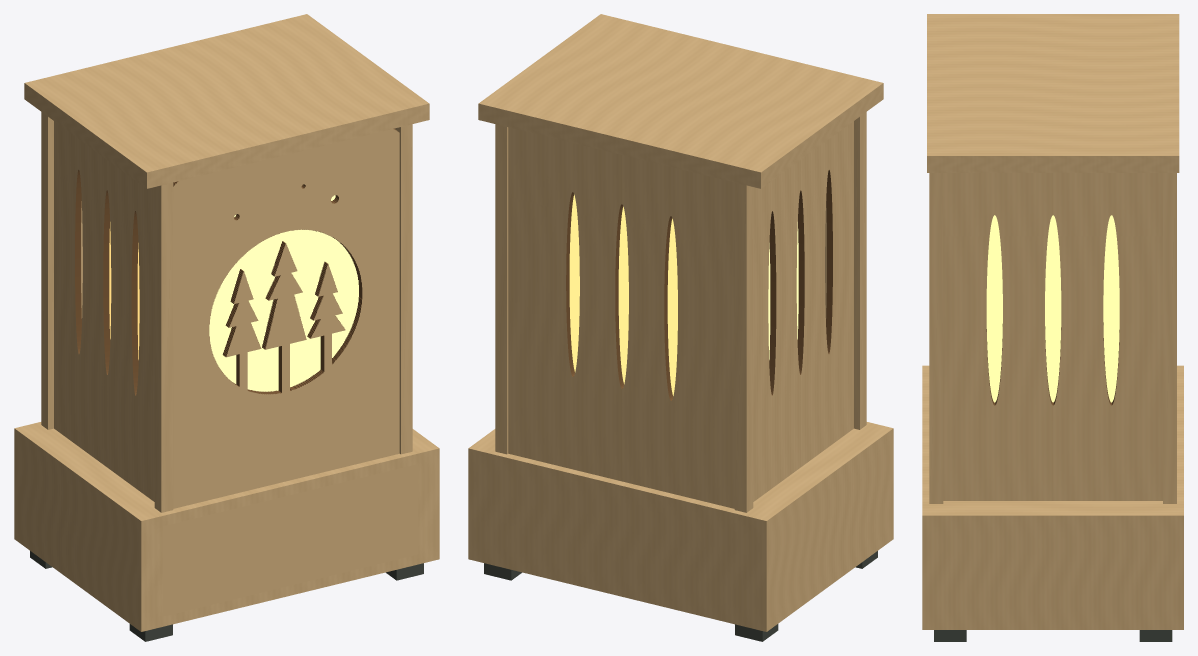
Rendered from studio-lamp-forest.glb.
3 views of the same model, side by side, from view 1: azimuth 30°, elevation 25°; view 2: azimuth 150°, elevation 25°; view 3: azimuth 270°, elevation 25° (orthographic). The views are drawn at different scales.
Visible parts, largest first — view 1: Front cut panel, Top cap, Fixed left panel, Solid birch base, Base engraving face, Corner frame (×3), Warm frosted inner light; view 2: Fixed back panel, Solid birch base, Top cap, Fixed left panel, Corner frame (×3), Warm frosted inner light; view 3: Fixed right panel, Top cap, Solid birch base, Corner frame (×2), Warm frosted inner light, Small foot (×2).
Part boxes in pixels (left/top/right/bottom): Front cut panel: left=173, top=128, right=399, bottom=508; Top cap: left=24, top=14, right=429, bottom=188; Fixed left panel: left=54, top=121, right=154, bottom=501; Solid birch base: left=14, top=422, right=439, bottom=631; Base engraving face: left=163, top=464, right=418, bottom=616; Corner frame (×3): left=41, top=112, right=412, bottom=512; Warm frosted inner light: left=109, top=195, right=358, bottom=391; Fixed back panel: left=508, top=127, right=734, bottom=508; Solid birch base: left=468, top=422, right=893, bottom=631; Top cap: left=478, top=14, right=883, bottom=188; Fixed left panel: left=753, top=121, right=853, bottom=501; Corner frame (×3): left=495, top=112, right=866, bottom=512; Warm frosted inner light: left=569, top=194, right=798, bottom=395; Fixed right panel: left=943, top=173, right=1162, bottom=500; Top cap: left=927, top=14, right=1179, bottom=172; Solid birch base: left=922, top=365, right=1183, bottom=629; Corner frame (×2): left=929, top=173, right=1176, bottom=503; Warm frosted inner light: left=986, top=215, right=1119, bottom=402; Small foot (×2): left=934, top=630, right=1172, bottom=641.
Size of the model in its own units: 0.152 by 0.23 by 0.1122.
Materials: 7 (2 with a texture image).
